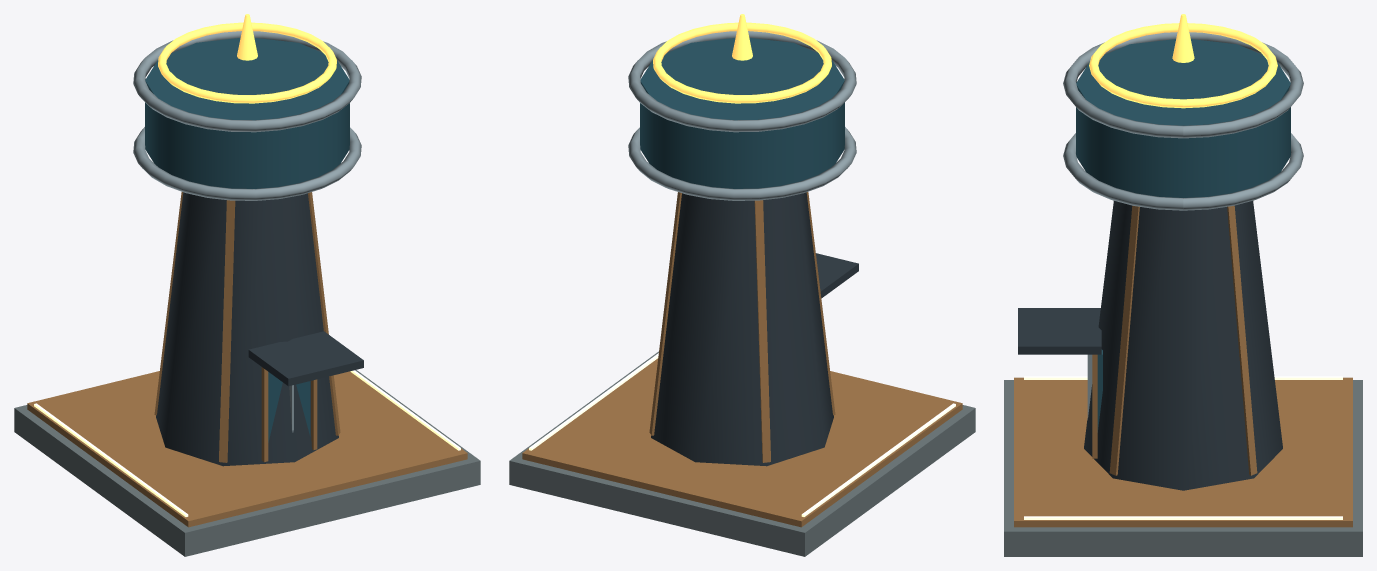
File: operations-beacon.lod1.glb
The picture shows the model from 3 angles, left to right: view 1: azimuth 30°, elevation 25°; view 2: azimuth 150°, elevation 25°; view 3: azimuth 270°, elevation 25°; orthographic projection. The views are drawn at different scales.
Visible parts, largest first — view 1: structure, signal; view 2: structure, signal; view 3: structure, signal.
Boxes of the visible parts, x1,y1,x2,y2 form: structure: [14, 31, 480, 556]; signal: [158, 14, 336, 103]; structure: [509, 31, 975, 556]; signal: [653, 14, 831, 103]; structure: [1004, 32, 1362, 556]; signal: [1089, 14, 1277, 108].
Bounding box in the file's own units: 9 × 12.9 × 9.
